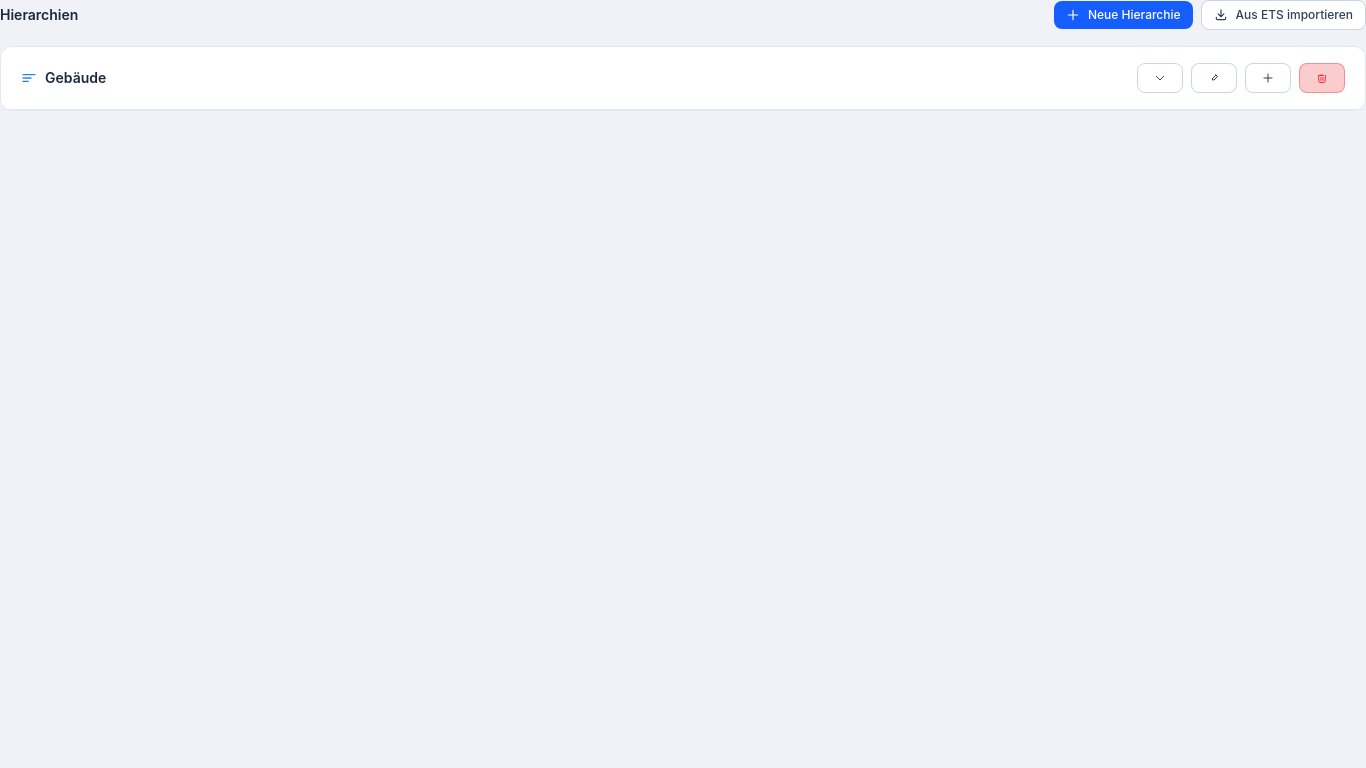
Test: HierarchyManager — delete tree › opens confirm dialog on delete button click
This screenshot has width=1366, height=768.
Step 1. Click the button with test id "btn-delete-tree-tree-1" → click(1322, 78), box [1299,63,1345,93]
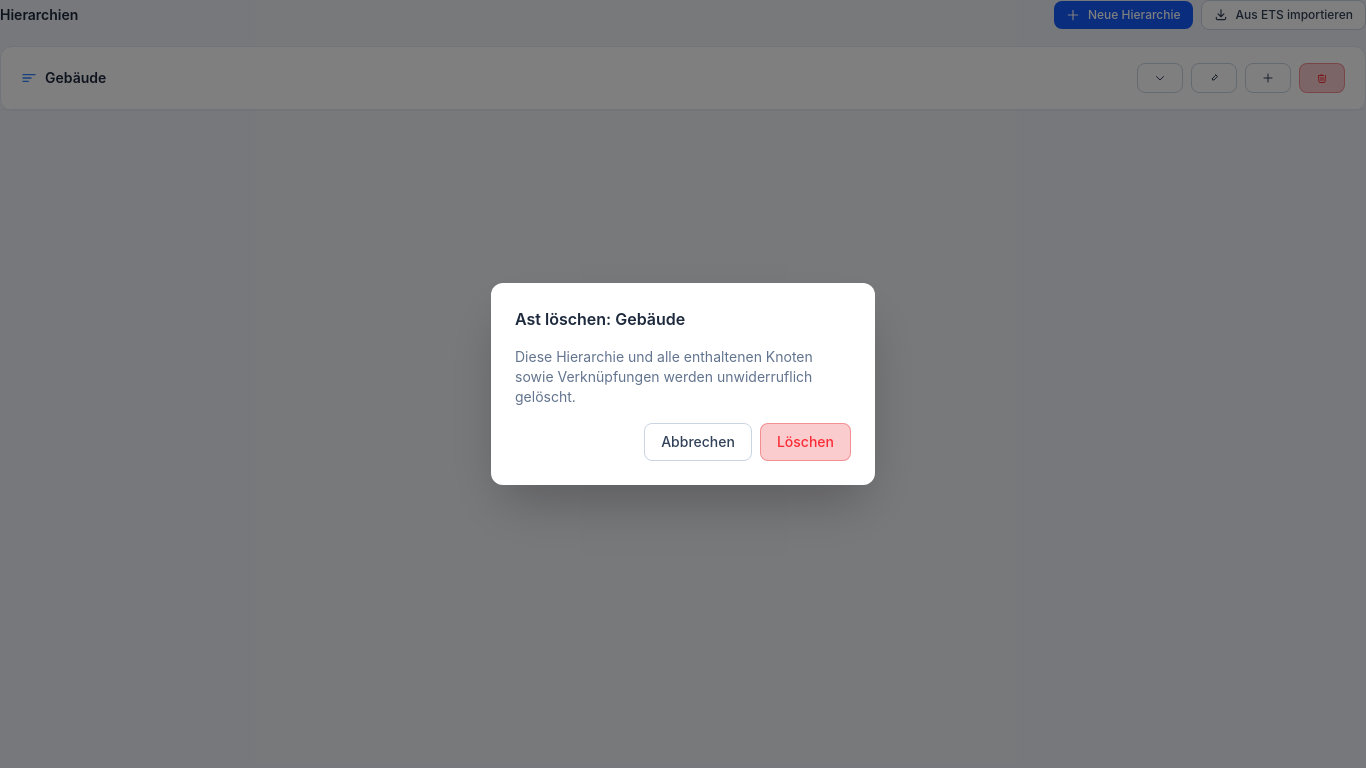
Check: the button "Löschen" is shown, box [760,423,851,461]
